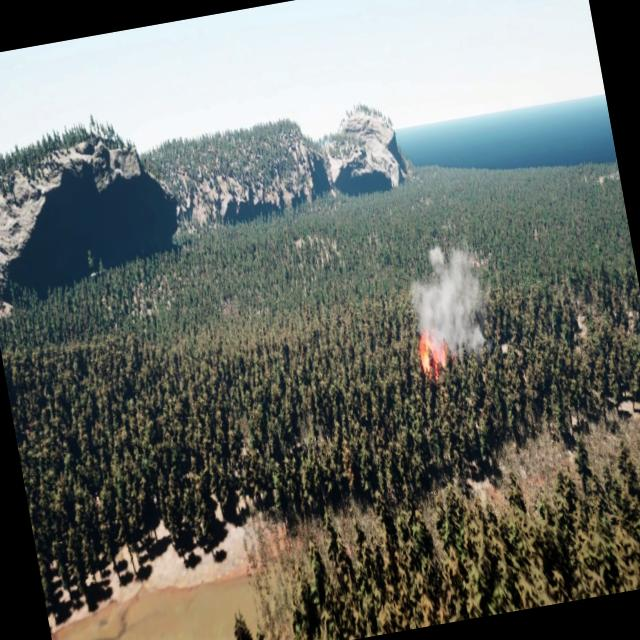fire: (413, 329, 452, 378)
smoke: (405, 237, 499, 381)
